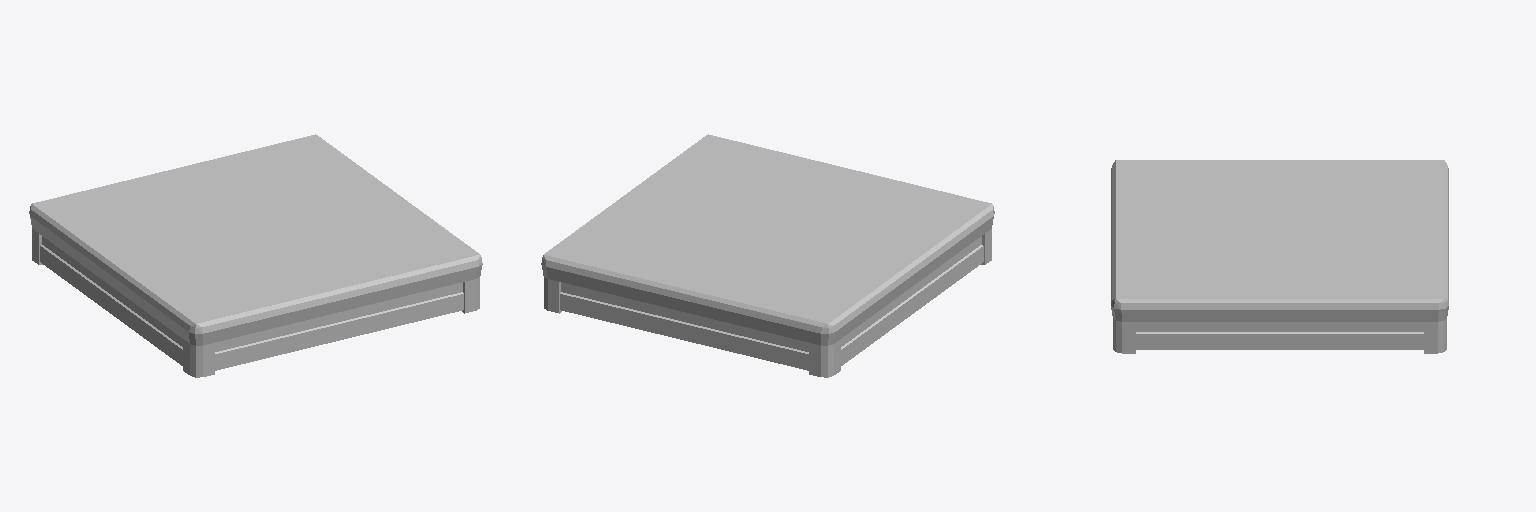
Rendered from stg600_obj_footholdB.obj.
3 renders of one model, left to right at view 1: azimuth 30°, elevation 25°; view 2: azimuth 150°, elevation 25°; view 3: azimuth 270°, elevation 25°, orthographic.
Parts seen in each view (by area): view 1: polygon1, polygon3, polygon4, polygon0; view 2: polygon1, polygon3, polygon4, polygon0; view 3: polygon1, polygon3, polygon4, polygon0.
Part boxes in pixels (bbox=[...]): polygon1: bbox=[60, 146, 452, 311]; polygon3: bbox=[29, 134, 482, 377]; polygon4: bbox=[40, 245, 463, 370]; polygon0: bbox=[42, 236, 462, 351]; polygon1: bbox=[571, 146, 963, 311]; polygon3: bbox=[541, 134, 994, 377]; polygon4: bbox=[560, 245, 983, 370]; polygon0: bbox=[561, 236, 981, 351]; polygon1: bbox=[1136, 168, 1423, 289]; polygon3: bbox=[1111, 160, 1448, 353]; polygon4: bbox=[1136, 332, 1423, 349]; polygon0: bbox=[1136, 322, 1423, 331].
Size of the model in its own units: 40.01 by 7.02 by 40.01.